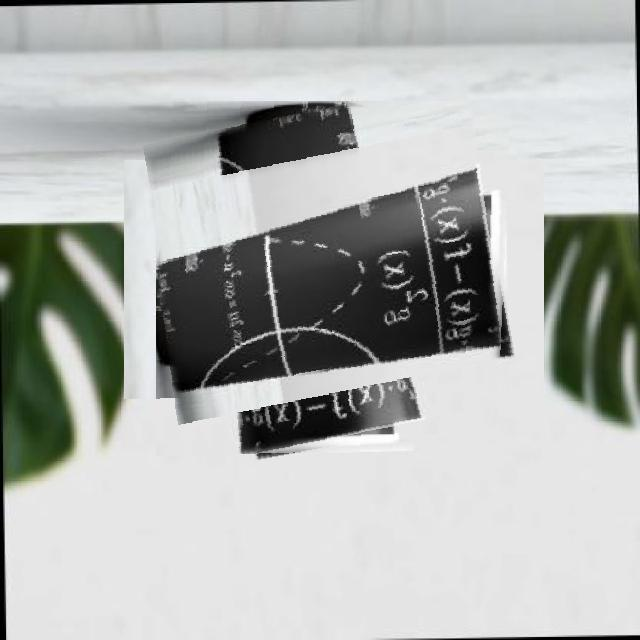non-biodegradable: (157, 101, 512, 457)
